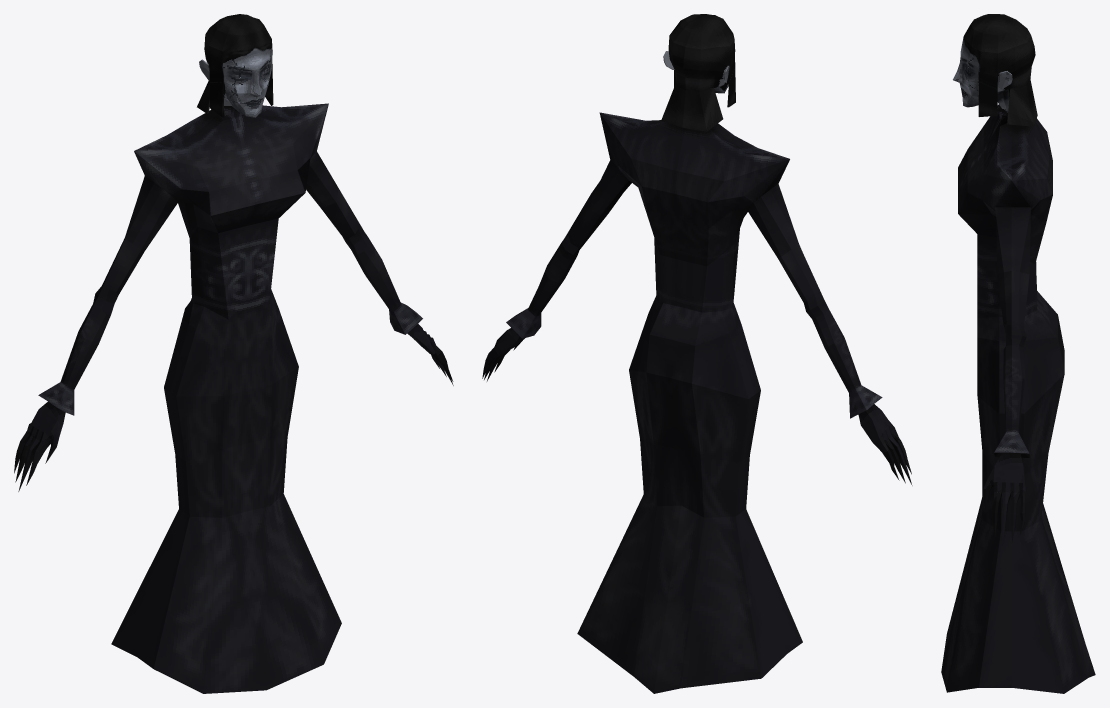
File: witch.glb
3 renders of one model, left to right at view 1: azimuth 30°, elevation 25°; view 2: azimuth 150°, elevation 25°; view 3: azimuth 270°, elevation 25°, orthographic. The views are drawn at different scales.
Visible parts, largest first — view 1: witch; view 2: witch; view 3: witch.
Part boxes in pixels (x1,y1,x2,y2): witch: (14, 14, 453, 693); witch: (482, 14, 912, 693); witch: (941, 14, 1095, 693).
Size of the model in its own units: 2.94 by 4.23 by 0.899.
Materials: 1 (1 with a texture image).
